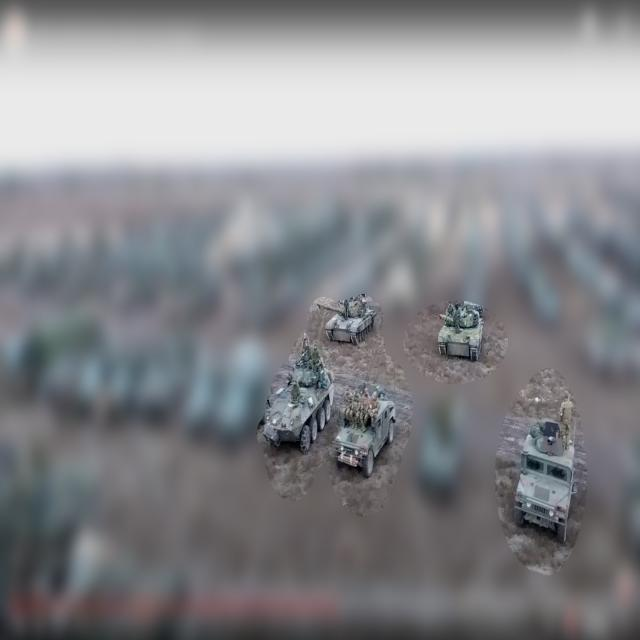tank: (261, 354, 335, 456), (436, 300, 486, 366), (326, 294, 375, 347)
